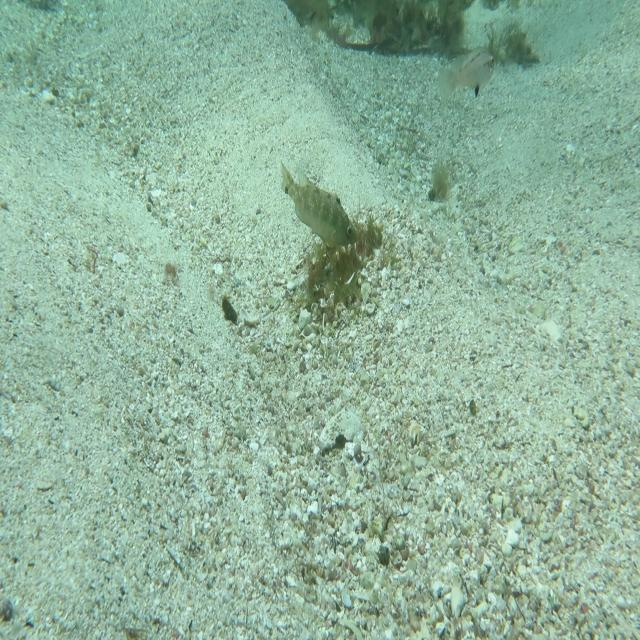INSF: (276, 155, 361, 259)
core_nest: (328, 214, 377, 258)
female: (435, 44, 500, 107)
nest: (296, 195, 390, 318)
